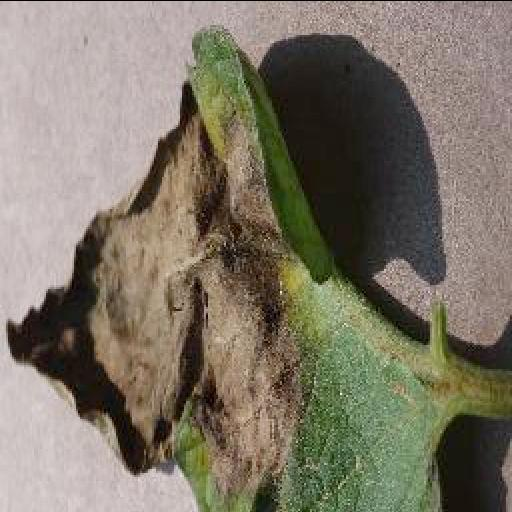disease_tomato: (2, 24, 444, 512)
